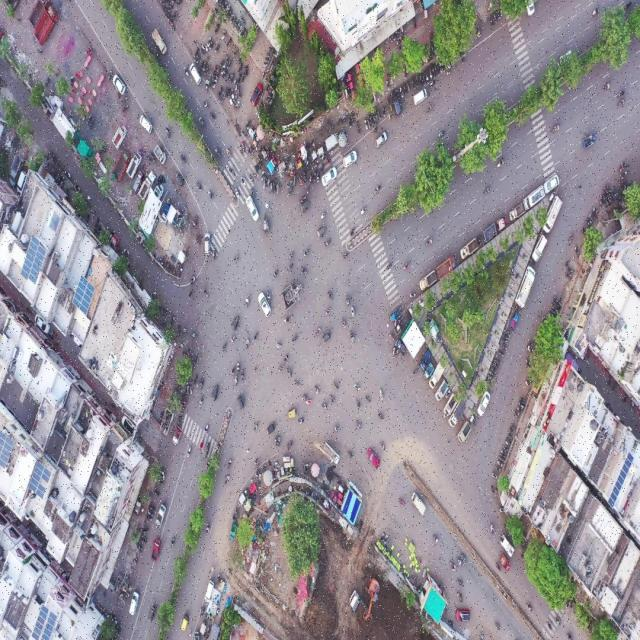3W: (264, 417, 278, 437), (179, 611, 191, 633), (147, 603, 158, 626), (315, 220, 327, 241), (229, 314, 241, 333), (500, 554, 511, 574), (262, 213, 271, 236), (322, 327, 333, 345), (299, 199, 310, 216), (175, 170, 185, 188), (238, 390, 246, 412), (211, 383, 220, 402), (204, 440, 211, 463), (286, 405, 296, 421)
Cars: (372, 130, 395, 153), (341, 147, 359, 172), (364, 444, 380, 472), (137, 114, 156, 136), (533, 234, 548, 261), (322, 164, 338, 189), (500, 535, 517, 557), (246, 196, 260, 222), (249, 84, 264, 106), (478, 391, 490, 417), (112, 73, 126, 95), (543, 174, 559, 193), (129, 589, 139, 618), (190, 62, 202, 84), (391, 89, 401, 115), (413, 88, 427, 106), (259, 294, 270, 316), (205, 579, 214, 602), (456, 609, 471, 622), (204, 232, 211, 257)
LCV: (543, 193, 565, 237), (515, 266, 537, 310), (521, 185, 543, 211), (152, 24, 169, 56), (448, 401, 465, 429), (437, 255, 455, 280), (460, 237, 477, 262), (140, 172, 155, 199), (457, 419, 472, 444), (111, 124, 127, 147), (430, 362, 444, 388), (419, 272, 437, 292), (411, 491, 426, 514), (324, 442, 339, 465), (152, 143, 167, 165), (151, 538, 163, 564), (418, 351, 433, 371), (436, 380, 449, 402), (155, 503, 167, 526), (509, 203, 524, 221), (132, 169, 144, 191), (395, 314, 408, 334), (326, 134, 339, 151), (582, 135, 596, 149), (390, 307, 403, 322), (509, 313, 519, 332), (229, 523, 238, 541), (424, 363, 434, 379), (396, 340, 405, 356), (173, 426, 181, 443)
M2W: (590, 6, 601, 18), (551, 614, 561, 627), (208, 110, 218, 122), (231, 251, 241, 263), (354, 419, 364, 431), (448, 561, 458, 573), (185, 443, 192, 460), (545, 618, 554, 631), (183, 65, 190, 81), (164, 126, 172, 140), (252, 330, 259, 346), (225, 457, 233, 471), (214, 147, 223, 159), (324, 305, 333, 317), (402, 260, 411, 272), (431, 533, 440, 545), (455, 556, 464, 568), (494, 620, 502, 633), (178, 156, 188, 166), (302, 247, 312, 257), (495, 160, 505, 170), (525, 603, 535, 613), (225, 147, 234, 158), (550, 123, 559, 134), (426, 103, 435, 114), (244, 294, 250, 310), (314, 326, 322, 338), (282, 353, 290, 365), (319, 401, 327, 413), (346, 448, 354, 460), (327, 290, 334, 303), (348, 330, 355, 343), (253, 421, 260, 434), (385, 261, 392, 274), (488, 522, 495, 535), (573, 246, 580, 259), (189, 274, 196, 287), (199, 113, 205, 128), (212, 247, 218, 262), (602, 81, 611, 91), (617, 88, 626, 98), (615, 99, 625, 108), (524, 379, 533, 389), (567, 231, 573, 246), (275, 182, 281, 197), (563, 258, 571, 269), (271, 269, 278, 281), (293, 376, 300, 388), (332, 378, 339, 390), (377, 410, 384, 422), (355, 397, 361, 411), (397, 496, 404, 508), (170, 535, 176, 549), (230, 365, 236, 379), (374, 183, 381, 195), (461, 552, 468, 564), (457, 590, 464, 602), (232, 46, 239, 58), (204, 79, 210, 93), (204, 458, 210, 472), (290, 334, 299, 343), (424, 238, 433, 247), (483, 186, 492, 195), (202, 100, 210, 110), (359, 206, 367, 216), (230, 167, 236, 180), (234, 188, 240, 201), (379, 388, 385, 401), (203, 423, 209, 436), (199, 378, 205, 391), (496, 559, 502, 572), (551, 293, 557, 306), (488, 16, 494, 29), (221, 28, 227, 41), (227, 35, 233, 48), (212, 64, 218, 77), (198, 440, 204, 453), (275, 340, 282, 351), (438, 128, 445, 139), (458, 578, 465, 589), (214, 23, 221, 34), (208, 190, 214, 202), (250, 186, 256, 198), (266, 289, 272, 301), (287, 251, 295, 260), (323, 238, 331, 247), (314, 384, 320, 396), (199, 395, 205, 407), (286, 263, 294, 272), (550, 308, 558, 317), (298, 176, 304, 188), (208, 39, 214, 51), (301, 264, 308, 274), (278, 364, 285, 374), (297, 416, 304, 426), (329, 393, 336, 403), (333, 423, 340, 433), (567, 630, 574, 640), (490, 473, 500, 480), (302, 170, 307, 184), (193, 374, 198, 388), (196, 181, 202, 192), (286, 365, 292, 376), (205, 523, 211, 534), (230, 334, 236, 345), (193, 46, 199, 57), (217, 86, 223, 97), (138, 544, 144, 555), (200, 606, 206, 617), (341, 316, 346, 329), (240, 368, 245, 381), (301, 393, 309, 401), (343, 251, 350, 260), (283, 316, 292, 323), (353, 382, 360, 391), (364, 394, 371, 403), (378, 441, 385, 450), (508, 425, 515, 434), (428, 80, 435, 89), (202, 42, 209, 51), (241, 176, 246, 188), (350, 306, 355, 318), (224, 474, 230, 484), (222, 340, 227, 352), (410, 77, 415, 89), (206, 36, 211, 48), (212, 78, 217, 90), (350, 227, 357, 235), (409, 292, 417, 299), (513, 410, 520, 418), (263, 177, 267, 191), (138, 537, 146, 544), (507, 432, 513, 441), (495, 461, 504, 467), (565, 272, 571, 281), (244, 120, 250, 129), (215, 43, 221, 52), (171, 11, 177, 20), (169, 22, 175, 31), (194, 56, 200, 65), (236, 362, 240, 375), (494, 12, 498, 25), (415, 74, 419, 87), (429, 68, 433, 81), (386, 78, 390, 91), (382, 105, 386, 118), (374, 120, 378, 133), (357, 123, 361, 136), (347, 117, 351, 130), (261, 170, 265, 183), (249, 174, 254, 184), (225, 55, 230, 65), (320, 212, 327, 219), (504, 440, 511, 447), (518, 402, 525, 409), (234, 375, 238, 387), (246, 337, 250, 349), (493, 358, 501, 364), (501, 344, 507, 352), (494, 466, 502, 472), (404, 84, 408, 96), (407, 81, 411, 93), (320, 161, 324, 173), (293, 176, 297, 188), (244, 64, 248, 76), (237, 87, 241, 99), (231, 72, 235, 84), (237, 74, 241, 86), (228, 59, 232, 71), (142, 529, 150, 535), (313, 171, 317, 183), (351, 111, 354, 126), (214, 7, 219, 16), (237, 63, 242, 72), (219, 58, 224, 67), (346, 295, 350, 306), (267, 179, 271, 190), (229, 88, 233, 99), (305, 399, 311, 406), (287, 188, 293, 195), (498, 351, 504, 358), (491, 368, 498, 374), (501, 449, 508, 455), (420, 74, 423, 88), (440, 61, 443, 75), (378, 109, 381, 123), (317, 170, 320, 184), (145, 514, 151, 521), (239, 146, 243, 156), (400, 88, 404, 98), (425, 73, 429, 83), (387, 97, 390, 110), (270, 182, 273, 195), (493, 363, 499, 369), (375, 107, 378, 119), (365, 119, 368, 131), (367, 117, 370, 129), (234, 79, 237, 91), (154, 491, 160, 497), (147, 510, 153, 516), (435, 65, 438, 76), (369, 115, 372, 126), (242, 141, 245, 152), (241, 72, 244, 83)
Truck: (34, 0, 58, 45), (349, 593, 373, 630), (111, 150, 130, 182)
